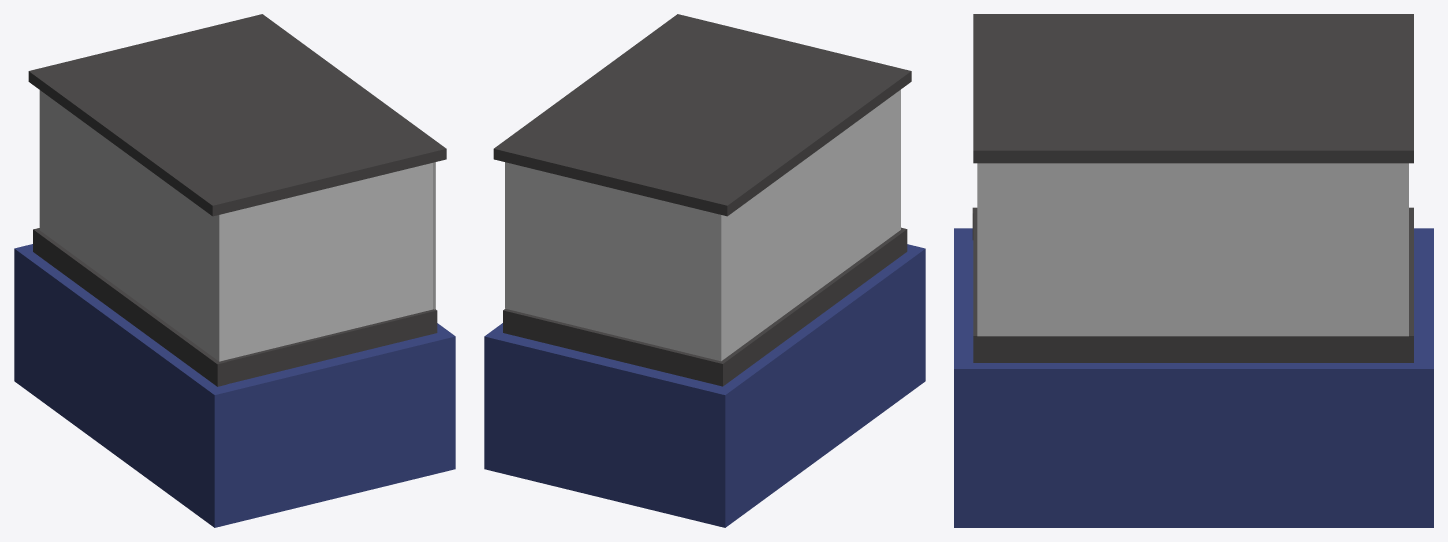
File: Acqaruims.fbx
3 views of the same model, side by side, from view 1: azimuth 30°, elevation 25°; view 2: azimuth 150°, elevation 25°; view 3: azimuth 270°, elevation 25° (orthographic). The views are drawn at different scales.
Visible parts, largest first — view 1: Acqaruims; view 2: Acqaruims; view 3: Acqaruims.
Boxes of the visible parts, left/top/right/bottom form: Acqaruims: left=14, top=14, right=455, bottom=527; Acqaruims: left=484, top=14, right=925, bottom=527; Acqaruims: left=954, top=14, right=1433, bottom=527.
Bounding box in the file's own units: 124 × 155 × 179.
